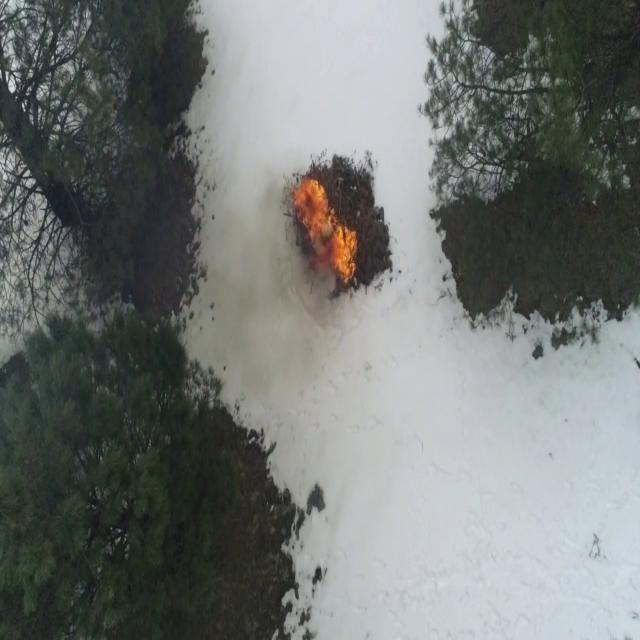fire: (296, 181, 356, 287)
